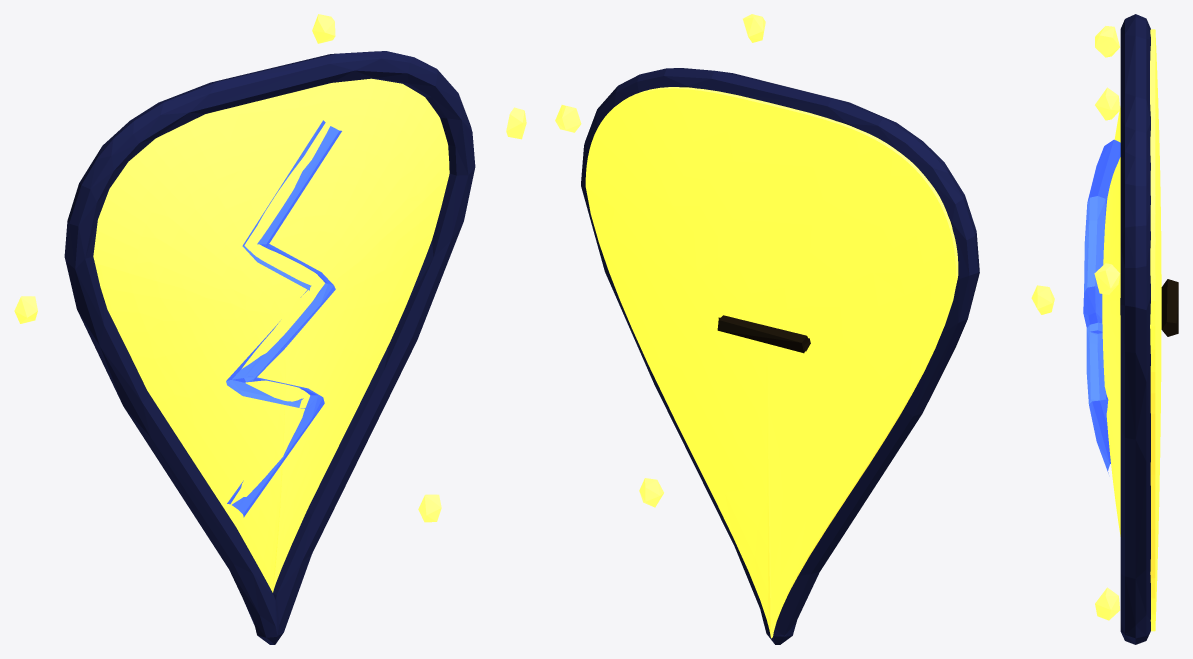
The model's file is shield_8.glb.
The picture shows the model from 3 angles, left to right: view 1: azimuth 30°, elevation 25°; view 2: azimuth 150°, elevation 25°; view 3: azimuth 270°, elevation 25°; orthographic projection. The views are drawn at different scales.
Visible parts, largest first — view 1: part_01, part_02, part_03; view 2: part_01, part_02, part_08; view 3: part_02, part_01, part_03, part_08, part_04, part_07, part_06, part_05.
Part boxes in pixels (left/top/right/bottom): part_01: left=93, top=78, right=449, bottom=592; part_02: left=64, top=51, right=475, bottom=644; part_03: left=226, top=120, right=341, bottom=517; part_01: left=585, top=87, right=958, bottom=638; part_02: left=581, top=68, right=979, bottom=644; part_08: left=717, top=315, right=809, bottom=353; part_02: left=1120, top=14, right=1150, bottom=644; part_01: left=1102, top=29, right=1161, bottom=631; part_03: left=1083, top=139, right=1120, bottom=473; part_08: left=1161, top=279, right=1178, bottom=336; part_04: left=1094, top=263, right=1120, bottom=294; part_07: left=1095, top=26, right=1119, bottom=57; part_06: left=1095, top=587, right=1119, bottom=620; part_05: left=1095, top=87, right=1119, bottom=120.
Size of the model in its own units: 1.18 by 1.39 by 0.1884.
